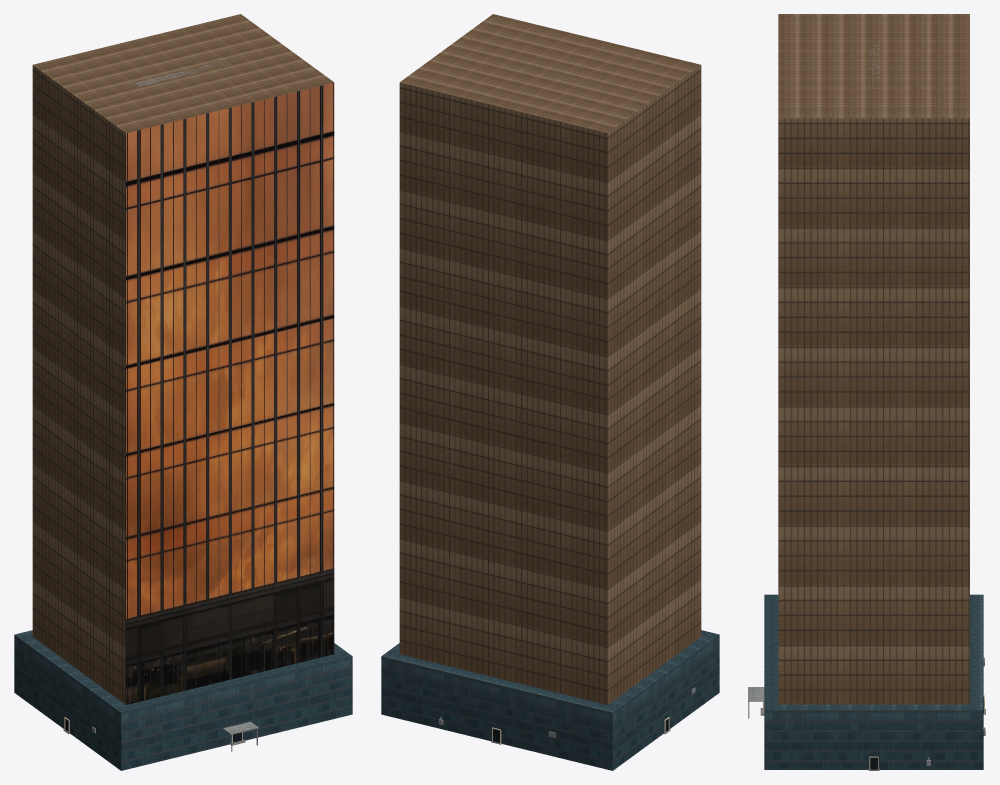
The model's file is kestrel-hq_lod0.gltf.
The picture shows the model from 3 angles, left to right: view 1: azimuth 30°, elevation 25°; view 2: azimuth 150°, elevation 25°; view 3: azimuth 270°, elevation 25°; orthographic projection. The views are drawn at different scales.
Visible parts, largest first — view 1: kestrel-hq_front, kestrel-hq_tier1, kestrel-hq_tier0; view 2: kestrel-hq_tier1, kestrel-hq_tier0; view 3: kestrel-hq_tier1, kestrel-hq_tier0.
Part boxes in pixels (box(x1,y1,x2,y2)): kestrel-hq_front: box(126, 82, 334, 704); kestrel-hq_tier1: box(32, 14, 333, 704); kestrel-hq_tier0: box(14, 630, 352, 770); kestrel-hq_tier1: box(399, 14, 701, 704); kestrel-hq_tier0: box(381, 630, 719, 770); kestrel-hq_tier1: box(778, 14, 969, 704); kestrel-hq_tier0: box(764, 594, 983, 769).
Bounding box in the file's own units: 50.8 × 130 × 43.4.
